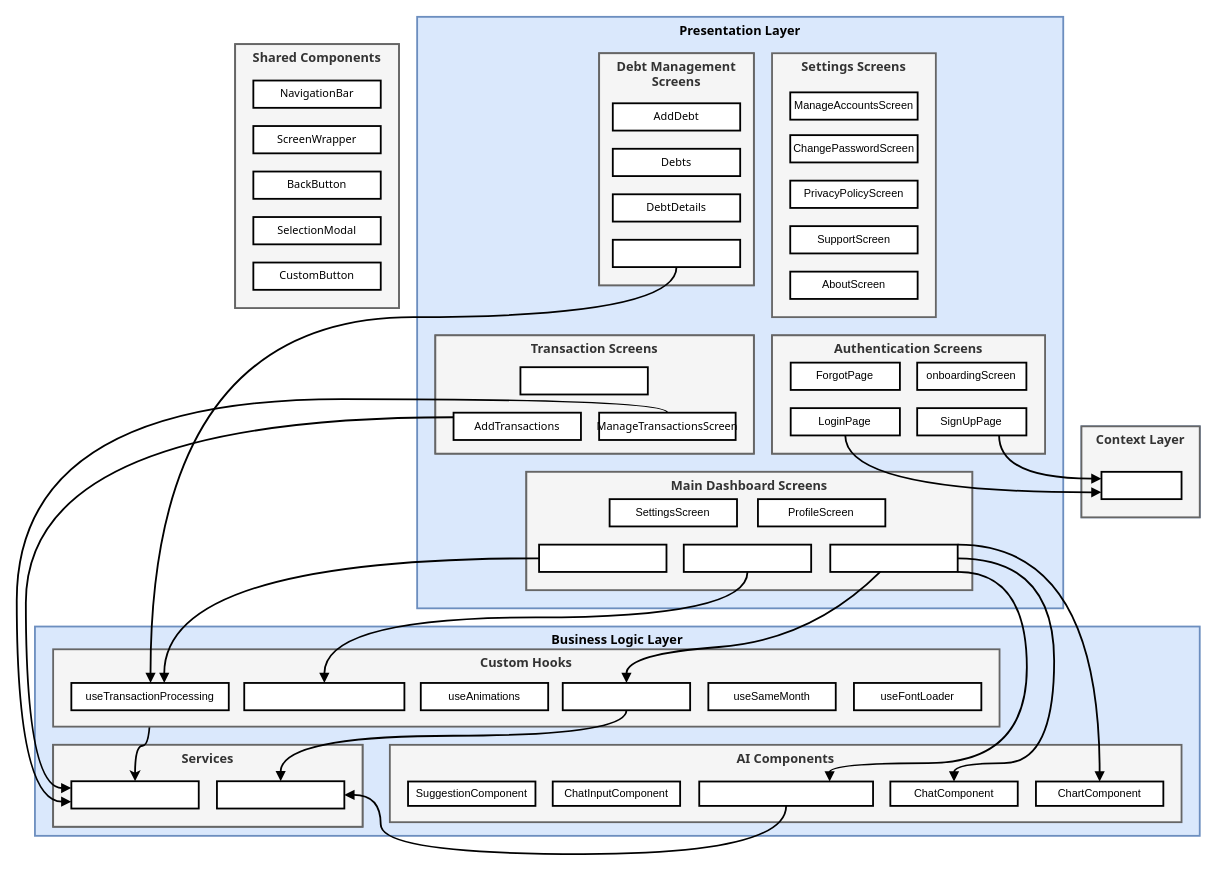
Image size: 1217x870. Some labels were removed from this diagram. Here are the shapes that lost their labels. From the top down, the centre of each, then its label:
At (x=676, y=253): "DebtTracking".
At (x=583, y=380): "EditTransactionScreen".
At (x=1141, y=485): "AuthProvider".
At (x=602, y=557): "HomeScreen".
At (x=747, y=557): "SummaryScreen".
At (x=893, y=557): "AIScreen".
At (x=324, y=696): "useCategorizedTransactions".
At (x=626, y=696): "useAIChat".
At (x=134, y=794): "transactionService.js".
At (x=280, y=794): "geminiService.js".
At (x=786, y=793): "DocumentProcessorComponent".
